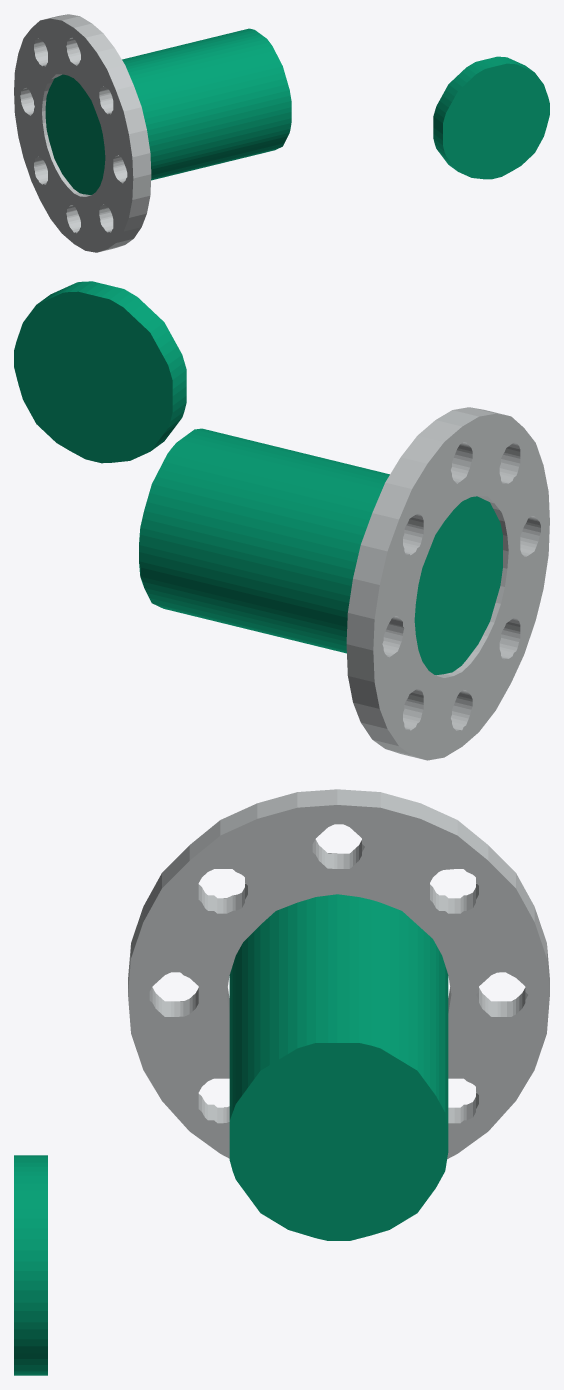
The picture shows the model from 3 angles, top to bottom: view 1: azimuth 30°, elevation 25°; view 2: azimuth 150°, elevation 25°; view 3: azimuth 270°, elevation 25°; orthographic projection. The views are drawn at different scales.
Size of the model in its own units: 0.4085 by 0.2195 by 0.2787.
